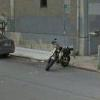Motorcycle: (39, 37, 77, 76)
